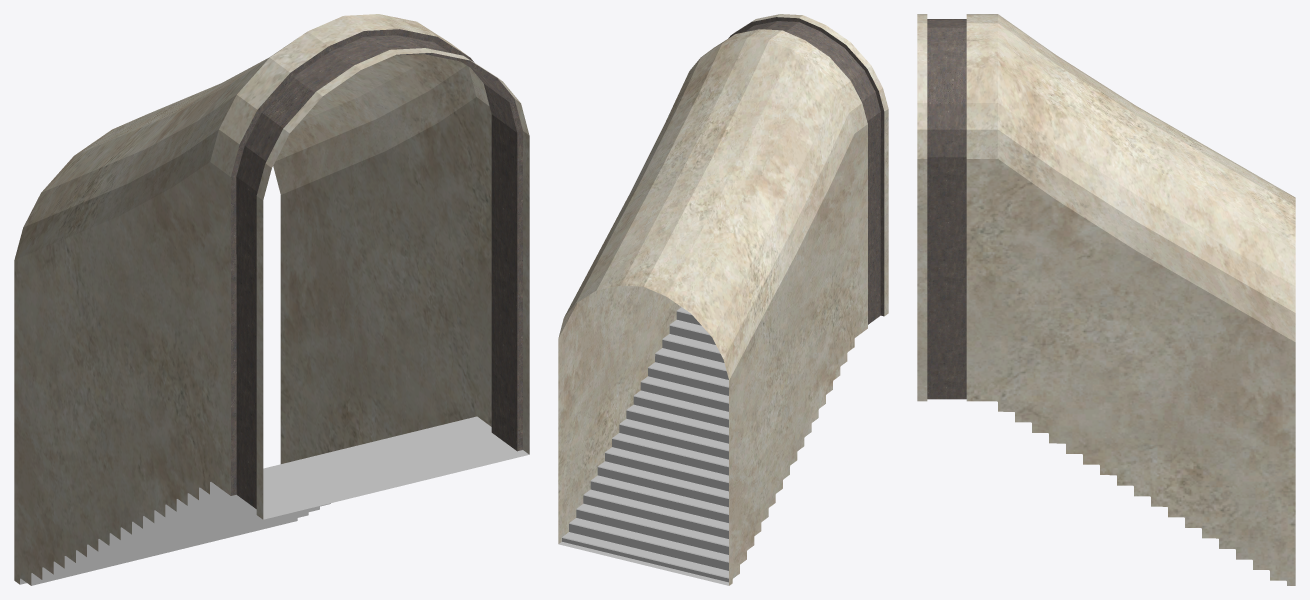
File: thm_tato_house_m_s01_fp1_r4_stair1_mesh_r4.fbx
The picture shows the model from 3 angles, left to right: view 1: azimuth 30°, elevation 25°; view 2: azimuth 150°, elevation 25°; view 3: azimuth 270°, elevation 25°; orthographic projection. The views are drawn at different scales.
Parts seen in each view (by area): view 1: mesh_node; view 2: mesh_node; view 3: mesh_node.
Part boxes in pixels (x1=…): mesh_node: x1=14, y1=14, x2=529, y2=585; mesh_node: x1=558, y1=14, x2=888, y2=585; mesh_node: x1=917, y1=14, x2=1295, y2=585.
Size of the model in its own units: 2.64 by 6.4 by 4.27.
